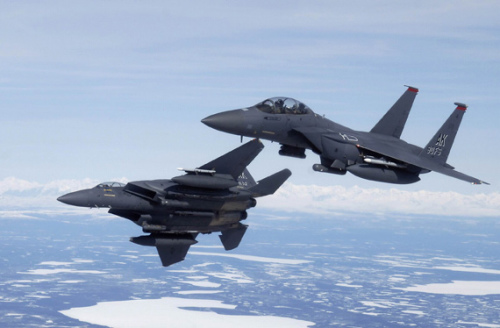airplane: (197, 79, 490, 191), (56, 138, 291, 268)
